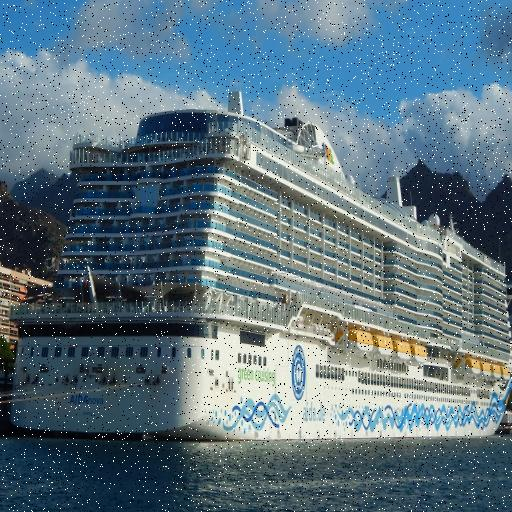cruises: (5, 89, 512, 452)
